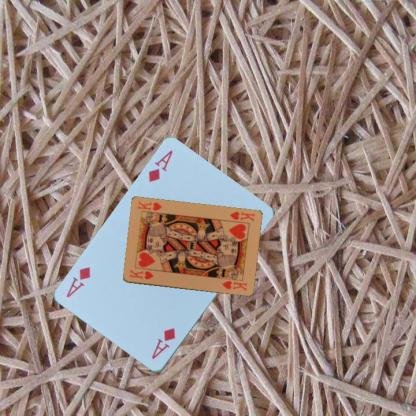Ad: (149, 325, 177, 361), (146, 148, 174, 184)
Kh: (127, 267, 155, 281), (227, 209, 255, 223)
